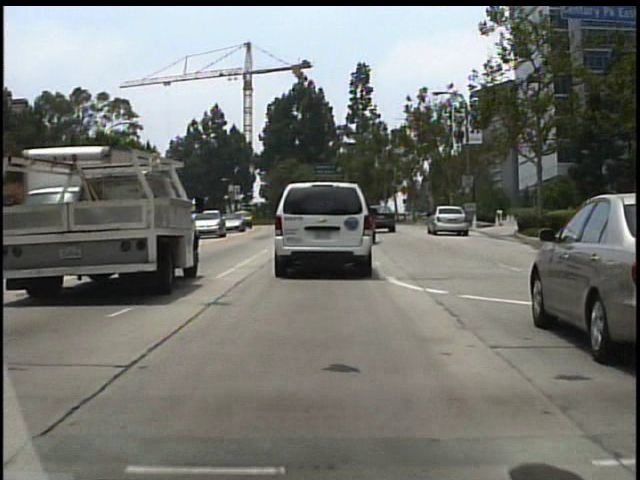person: (409, 197, 420, 226)
